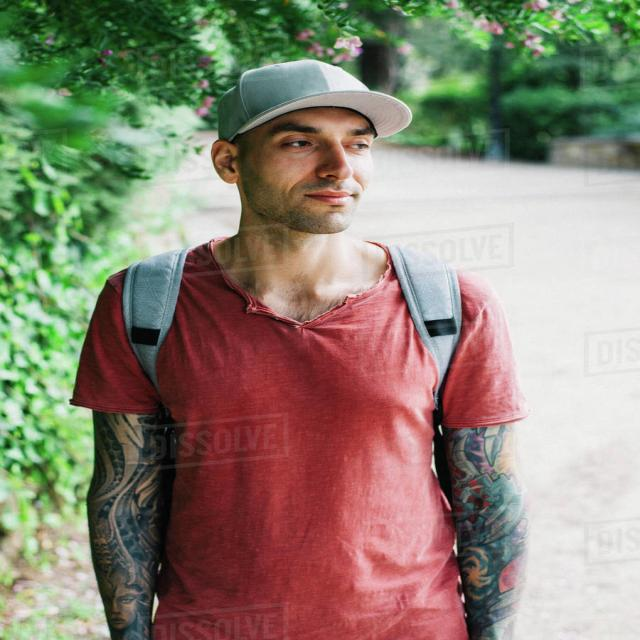3_gorra: (209, 60, 416, 140)
